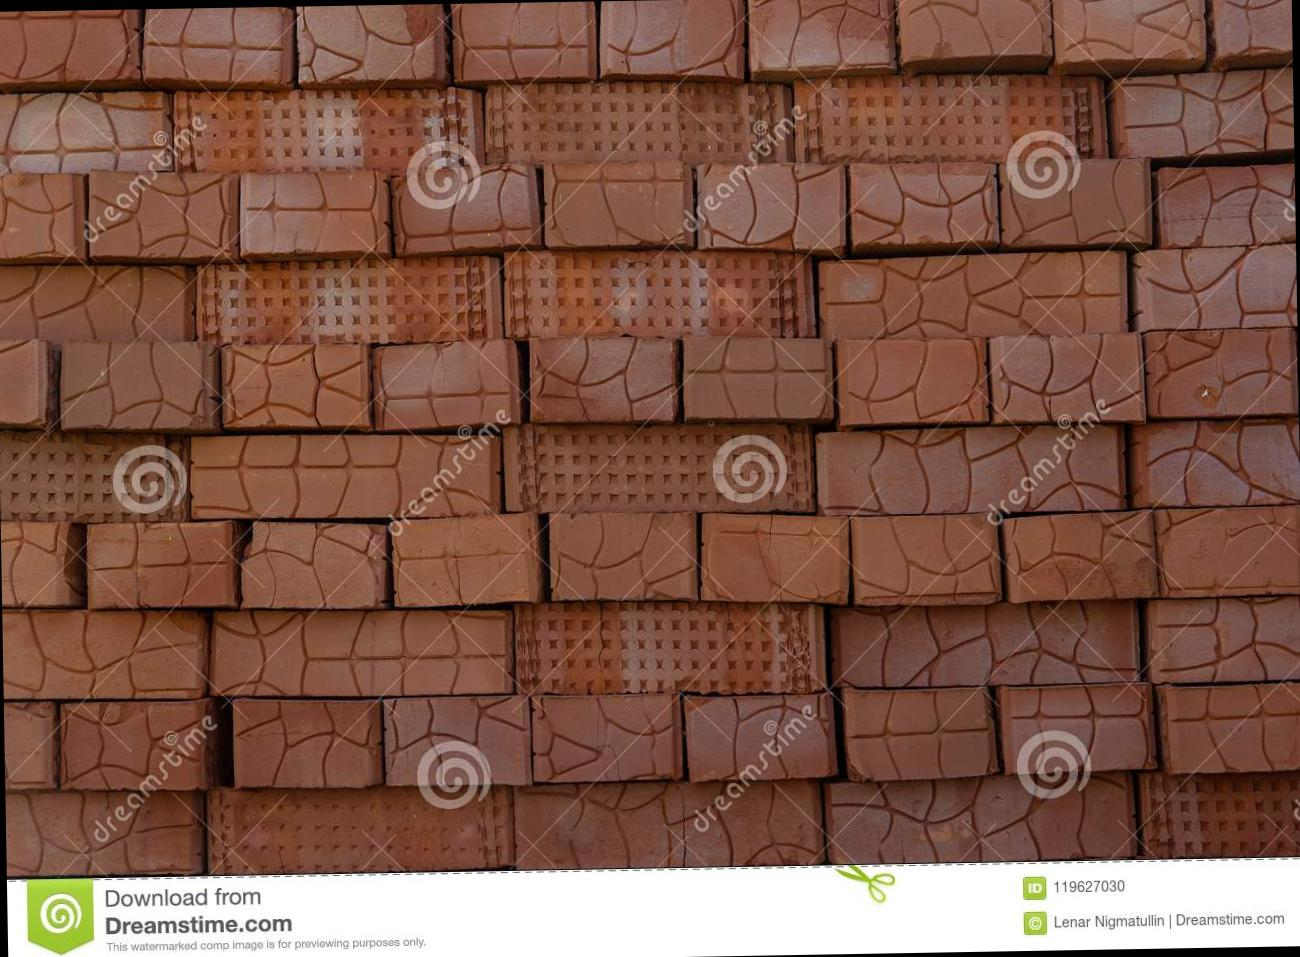brick: (514, 597, 828, 697), (503, 419, 815, 517), (174, 83, 483, 180), (504, 245, 816, 340), (792, 71, 1108, 164), (207, 779, 515, 874), (827, 772, 1136, 864), (819, 248, 1126, 340), (515, 778, 824, 869), (190, 431, 503, 520), (209, 607, 515, 698), (816, 425, 1124, 515), (482, 79, 794, 168), (196, 256, 503, 345), (835, 602, 1140, 686), (2, 607, 208, 701), (0, 427, 188, 526), (5, 788, 201, 875), (1112, 68, 1294, 156), (0, 264, 194, 343), (1131, 417, 1300, 507), (0, 90, 172, 176), (699, 510, 850, 606), (844, 686, 997, 780), (59, 341, 218, 431), (1135, 243, 1298, 331), (391, 511, 541, 606), (1004, 510, 1159, 602), (1140, 771, 1300, 859), (1000, 682, 1157, 772), (392, 163, 541, 256), (232, 696, 382, 789), (695, 162, 848, 253), (60, 699, 212, 790), (992, 332, 1146, 423), (1143, 328, 1299, 417), (87, 167, 239, 257), (684, 692, 837, 782), (238, 520, 389, 611), (384, 694, 530, 786), (681, 332, 834, 421), (86, 521, 238, 610), (222, 341, 372, 431), (532, 693, 682, 782), (999, 158, 1153, 245), (1157, 504, 1300, 597), (853, 515, 999, 606), (1148, 596, 1300, 682), (548, 512, 698, 600), (530, 334, 678, 423), (838, 337, 989, 424), (374, 338, 519, 429), (239, 171, 390, 257), (1157, 681, 1300, 772), (544, 162, 693, 246), (850, 162, 999, 245), (142, 7, 294, 85), (1158, 163, 1296, 246), (452, 1, 597, 80), (599, 0, 744, 77), (296, 4, 444, 79), (748, 0, 894, 72), (0, 9, 138, 82), (1053, 0, 1206, 63), (897, 0, 1053, 62), (0, 172, 86, 259), (1, 521, 79, 606), (1211, 0, 1293, 56)
